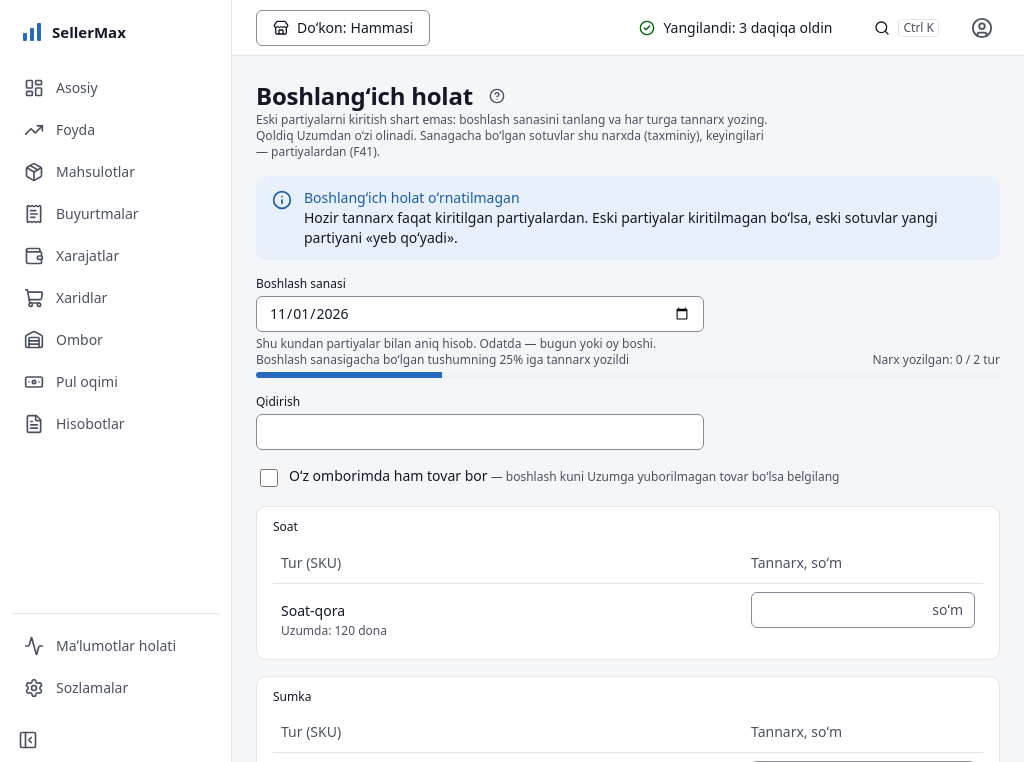
Scenario: boshlang'ich holat › narx kiritilgan qatorlar yuboriladi; javob keshga
Expected: the text "Soat" is shown, top-left (273, 519), bottom-right (298, 535)
Type "12000" into the field named "Tannarx / dona" in the row of "Soat-qora".
click(863, 610); type("12000")  # box top-left (751, 592), bottom-right (975, 628)
(page scrolled)
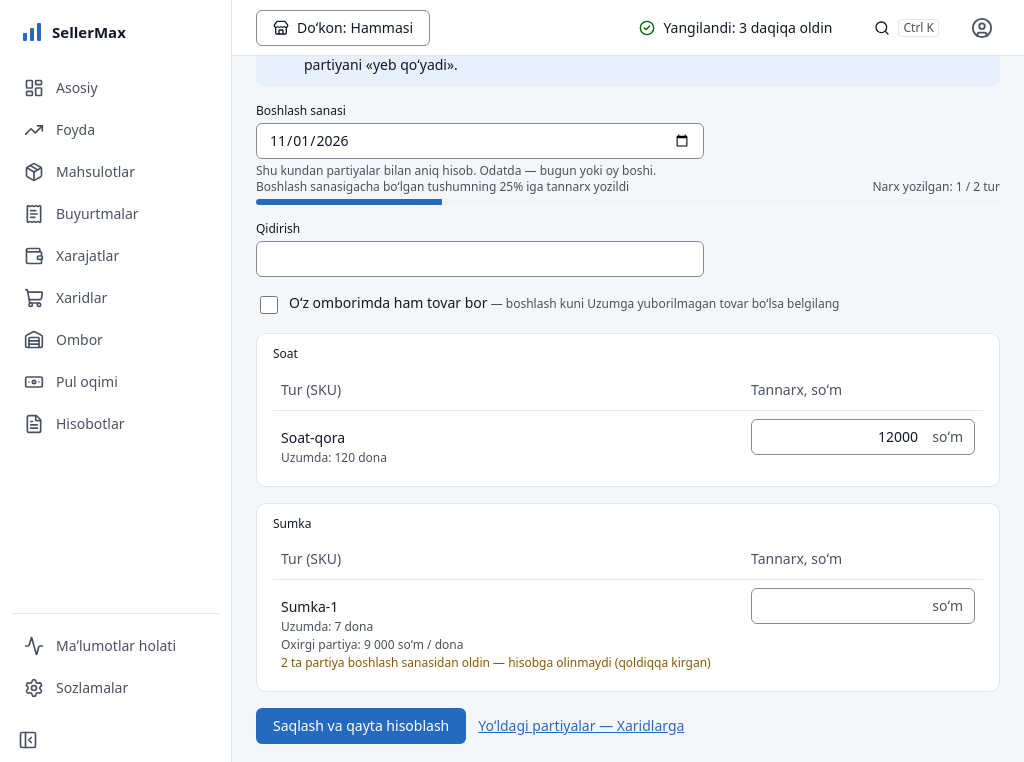
Click the button "Saqlash va qayta hisoblash".
click(361, 726)  # box top-left (256, 708), bottom-right (466, 744)
(page scrolled)
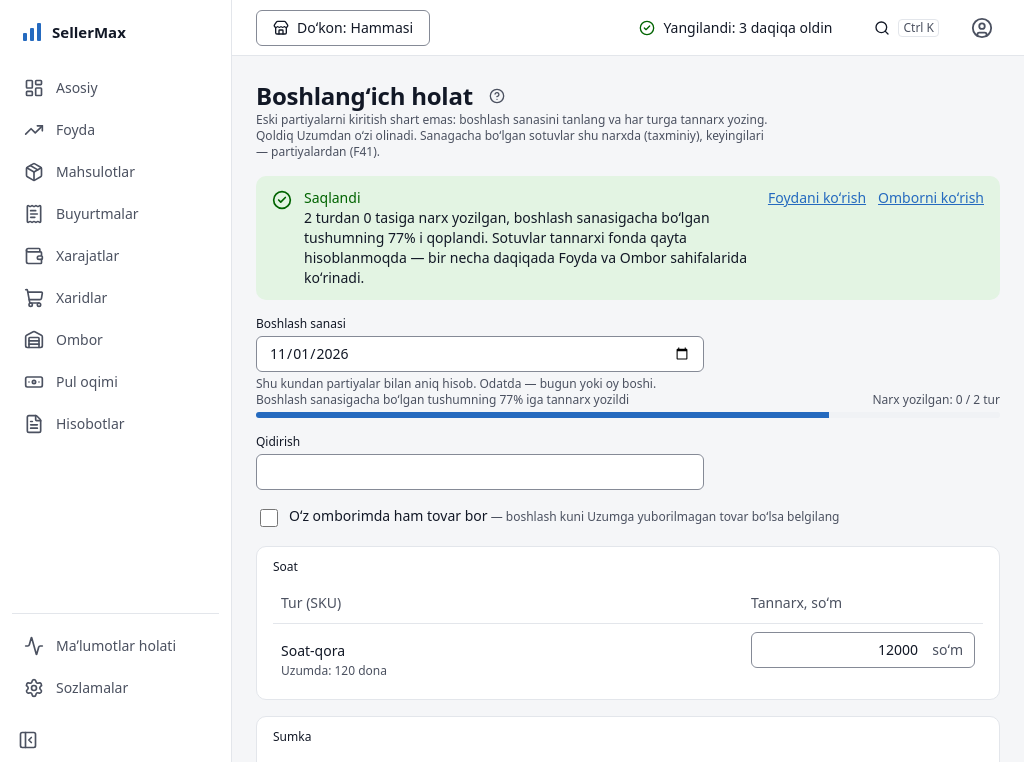
Expected: the text "Saqlandi" is shown, top-left (304, 188), bottom-right (360, 207)
Expected: the text "tushumning 77" is shown, top-left (304, 208), bottom-right (747, 287)
